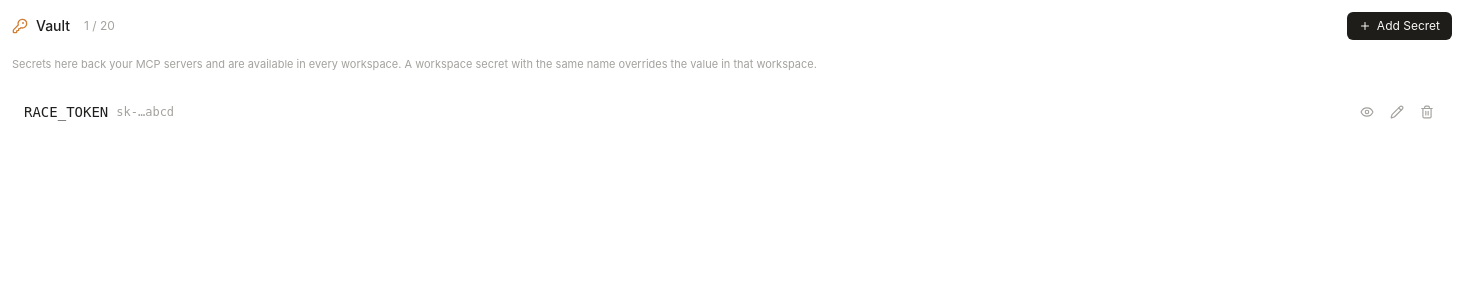
Test case: SecretsManager via the user vault adapter — reveal › discards a reveal that resolves after the secret was updated
Click the button titled "Reveal value": (1367, 112) [1354,98,1380,124]
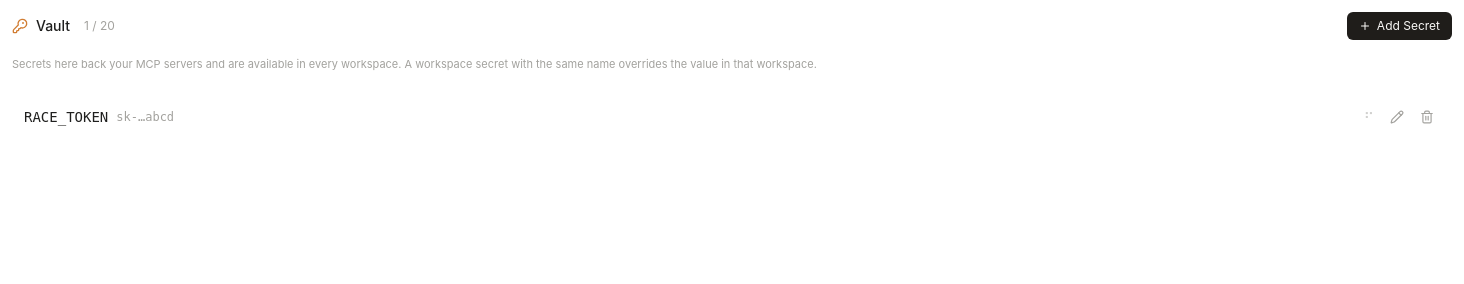
Click the button titled "Edit": (1397, 116) [1384,104,1410,130]
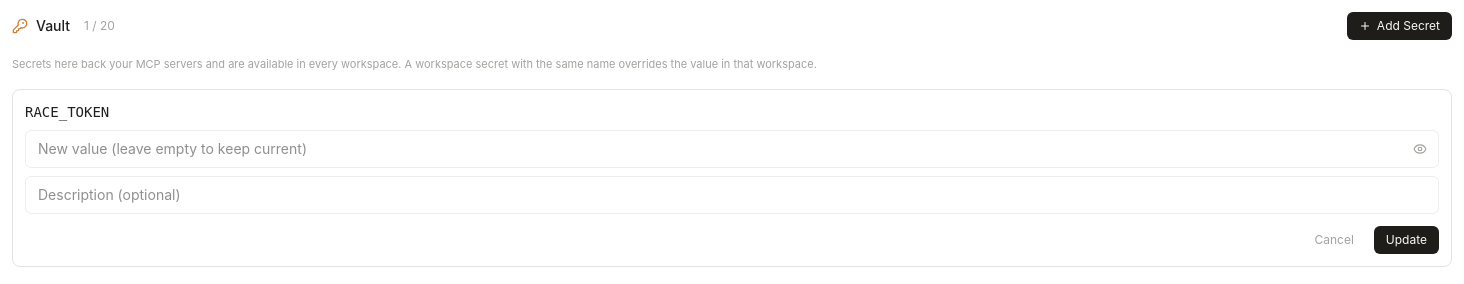
In the password field with placeholder "New value (leave empty to keep current)": (732, 148) [25,130,1439,168], type "rotated-value"
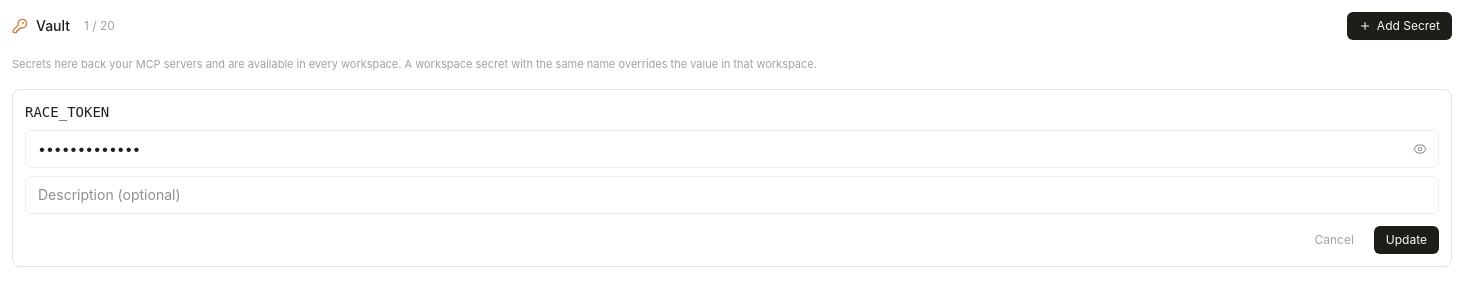
Click the button "Update": (1406, 240) [1374,226,1439,254]
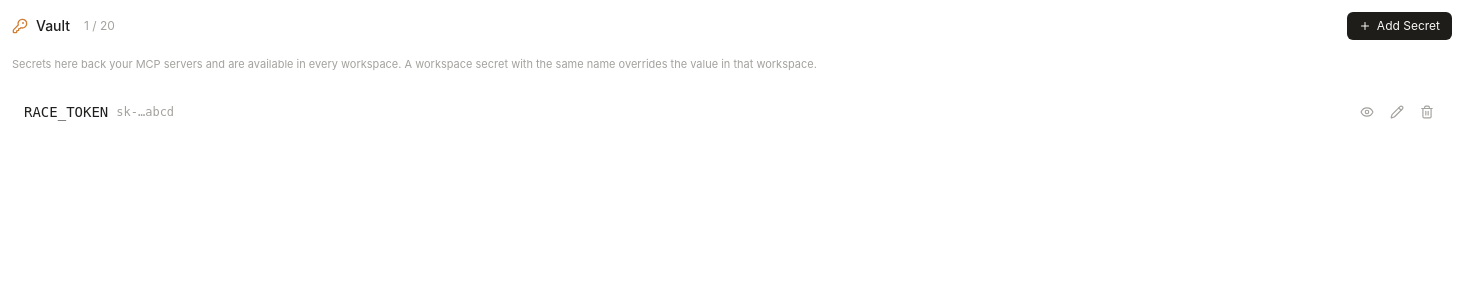
expect the text "sk-…abcd" is shown: met, box [116,104,174,120]
